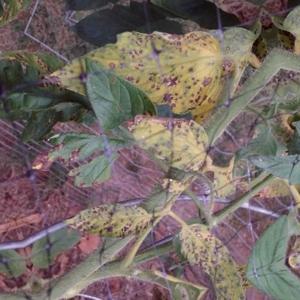Tomato Septoria leaf spot: (37, 5, 240, 154), (105, 95, 223, 202), (55, 186, 157, 262), (164, 209, 233, 284)
